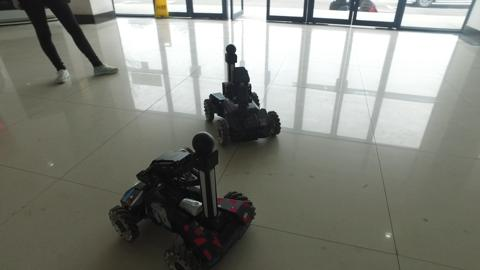chariot: (109, 125, 260, 270), (194, 39, 288, 148)
